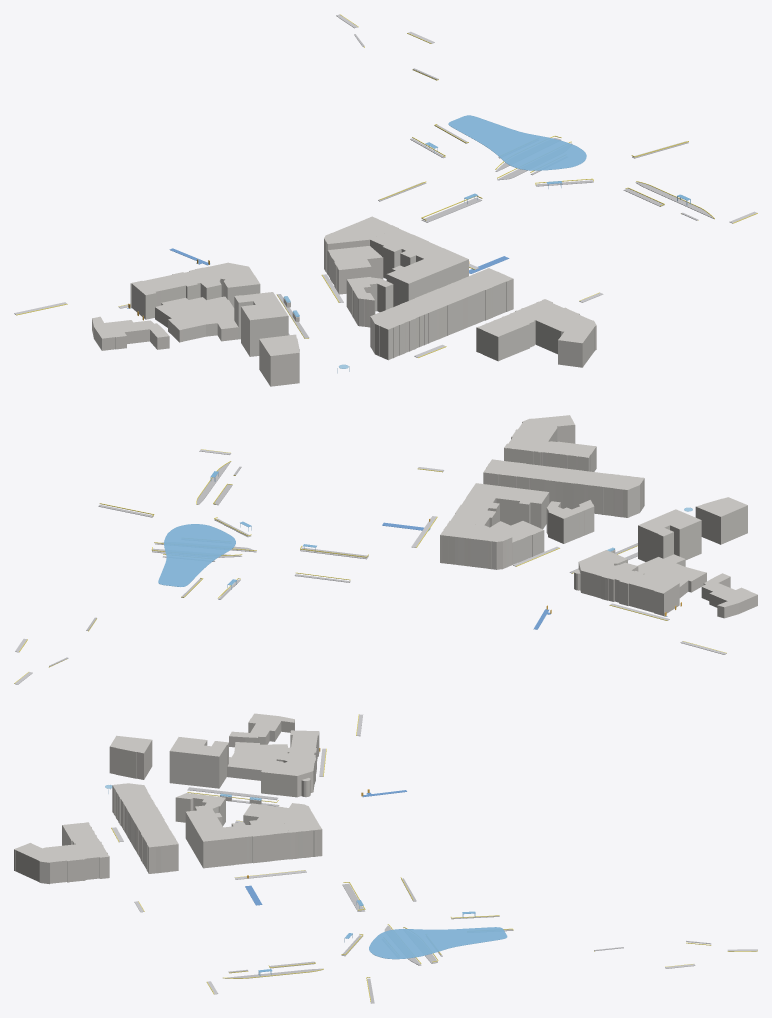
The model's file is 8579896-bern-hirschengraben.glb.
3 views of the same model, one above another, from view 1: azimuth 30°, elevation 25°; view 2: azimuth 150°, elevation 25°; view 3: azimuth 270°, elevation 25° (orthographic). The views are drawn at different scales.
Parts seen in each view (by area): view 1: building_part@x, shelter@0, platform_surface@0, boarding_edge@0, platform_body@0; view 2: building_part@x, shelter@0, platform_surface@0, boarding_edge@0, platform_body@0; view 3: building_part@x, shelter@0, platform_surface@0, boarding_edge@0, platform_body@0.
Boxes of the visible parts, <box> form: building_part@x: <box>92,216,596,386</box>; shelter@0: <box>283,115,690,316</box>; platform_surface@0: <box>277,34,713,338</box>; boarding_edge@0: <box>16,14,757,357</box>; platform_body@0: <box>14,14,756,357</box>; building_part@x: <box>440,415,757,618</box>; shelter@0: <box>158,471,614,589</box>; platform_surface@0: <box>49,461,637,666</box>; boarding_edge@0: <box>14,449,726,683</box>; platform_body@0: <box>14,449,726,684</box>; building_part@x: <box>14,713,322,884</box>; shelter@0: <box>220,795,507,976</box>; platform_surface@0: <box>187,787,711,1003</box>; boarding_edge@0: <box>111,714,757,1001</box>; platform_body@0: <box>112,714,757,994</box>.
Bounding box in the file's own units: 407 × 25.62 × 442.
